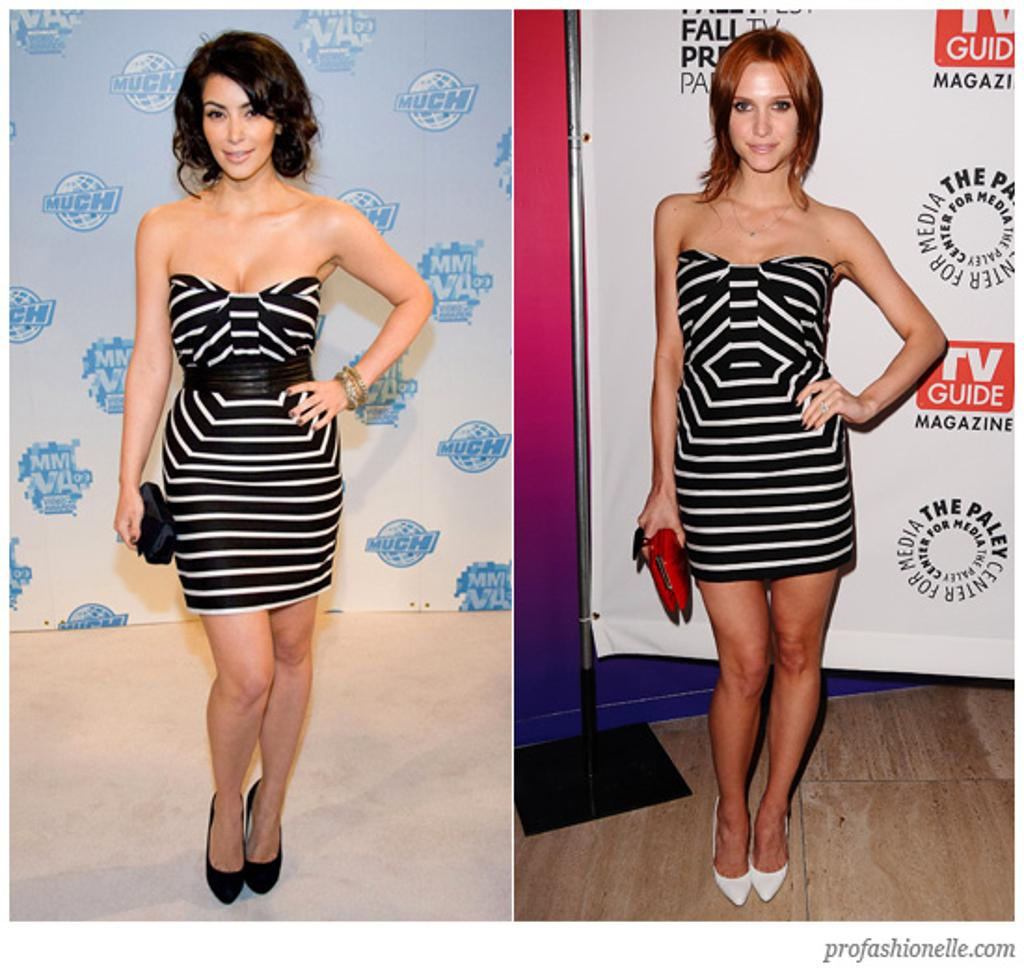face: (202, 72, 280, 178), (728, 60, 800, 170)
